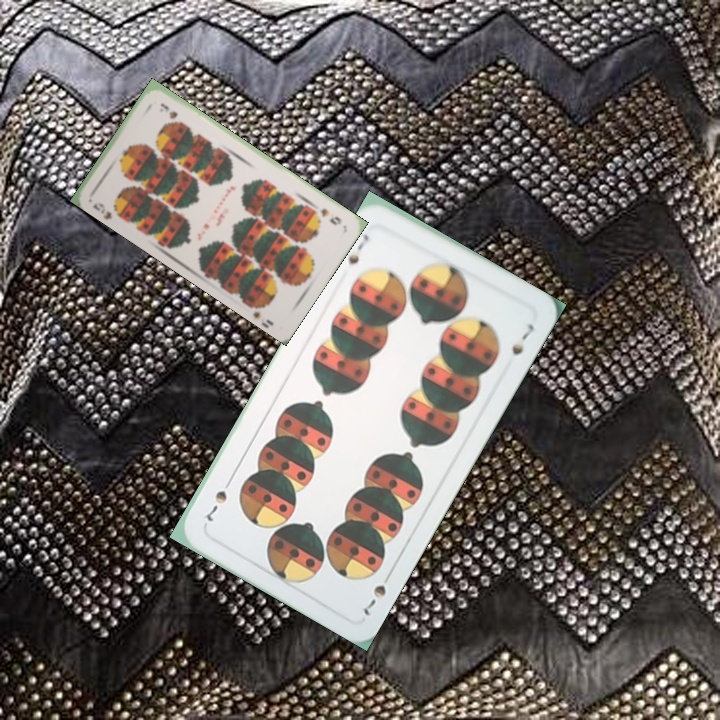S7: (359, 566, 395, 619), (343, 230, 372, 267)
S9: (89, 199, 125, 222), (317, 204, 344, 228)
